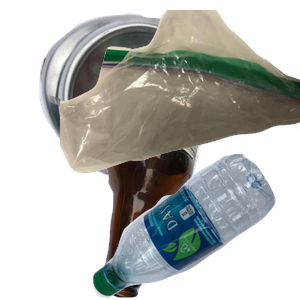glass: (99, 140, 300, 300)
metal: (37, 11, 261, 180)
plastic: (90, 154, 300, 300)
trash: (60, 10, 300, 176)
